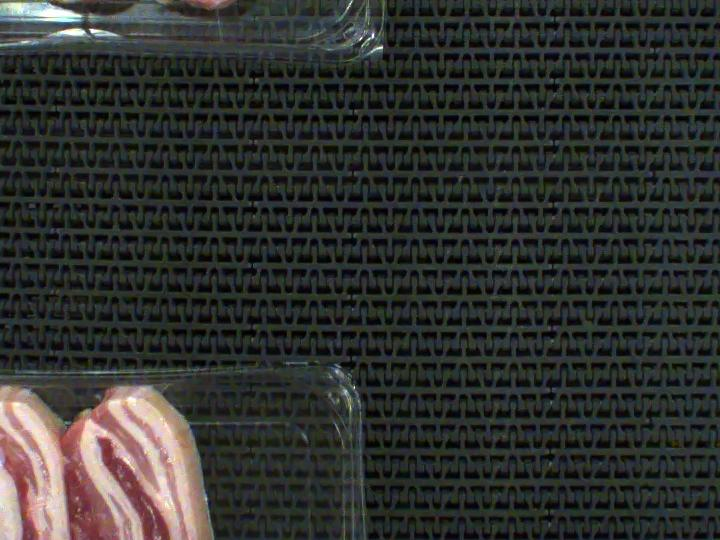packaging-error: (0, 353, 203, 430)
